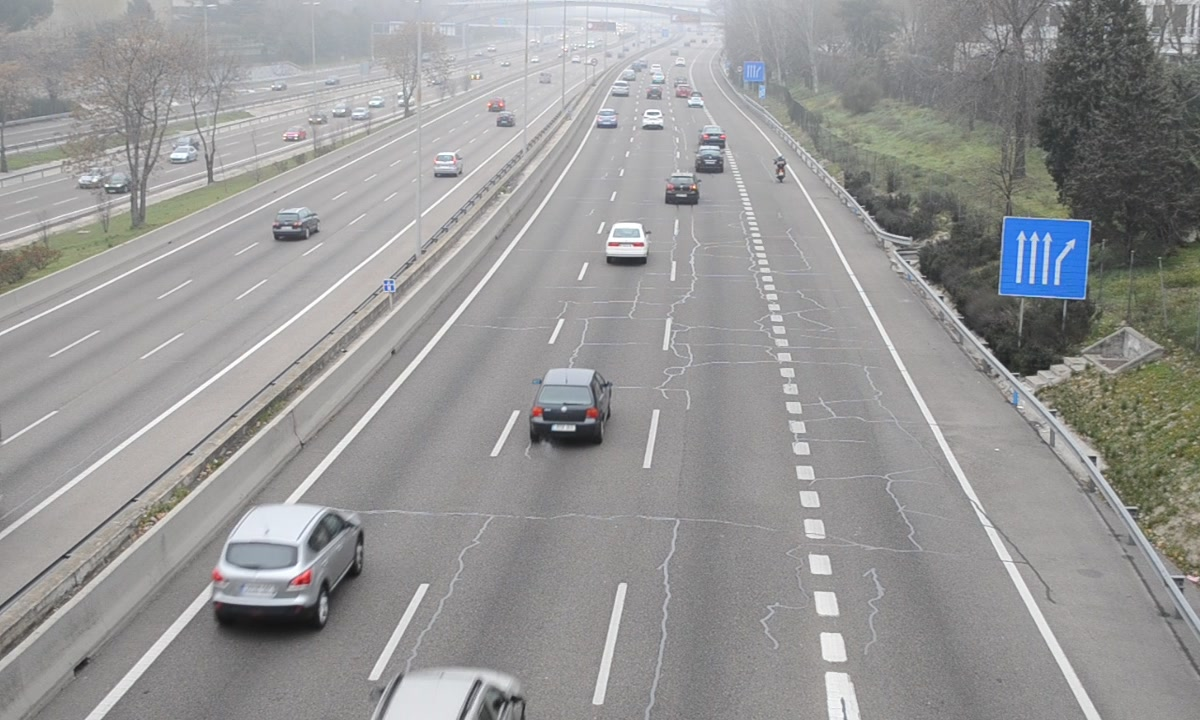car: (212, 506, 364, 617), (530, 369, 611, 442), (606, 221, 651, 258), (665, 172, 700, 205), (695, 146, 725, 174), (699, 124, 728, 147), (639, 108, 666, 131)
motorcycle: (773, 154, 788, 185)
